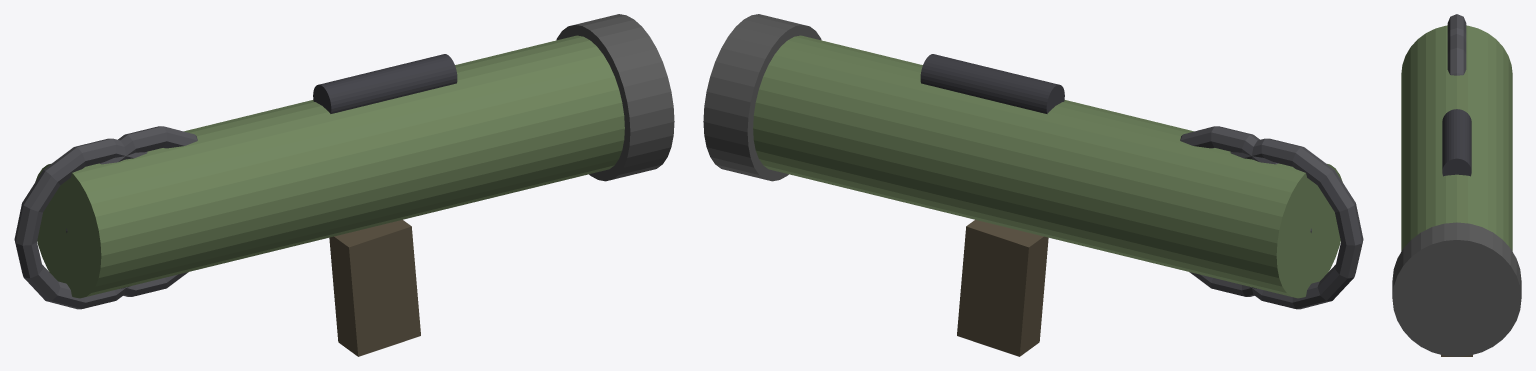
File: lanzacohete.glb
3 renders of one model, left to right at view 1: azimuth 30°, elevation 25°; view 2: azimuth 150°, elevation 25°; view 3: azimuth 270°, elevation 25°, orthographic. The views are drawn at different scales.
Parts seen in each view (by area): view 1: LanzaCohete; view 2: LanzaCohete; view 3: LanzaCohete.
Boxes of the visible parts, left/top/right/bottom form: LanzaCohete: left=14, top=14, right=674, bottom=356; LanzaCohete: left=703, top=14, right=1363, bottom=356; LanzaCohete: left=1392, top=14, right=1521, bottom=356.
Size of the model in its own units: 0.981 by 0.4091 by 0.22.
